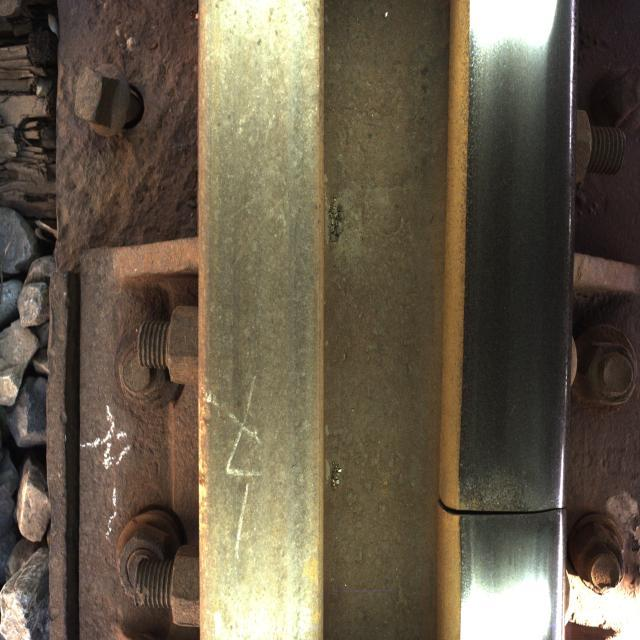spalling: (412, 452, 582, 550)
